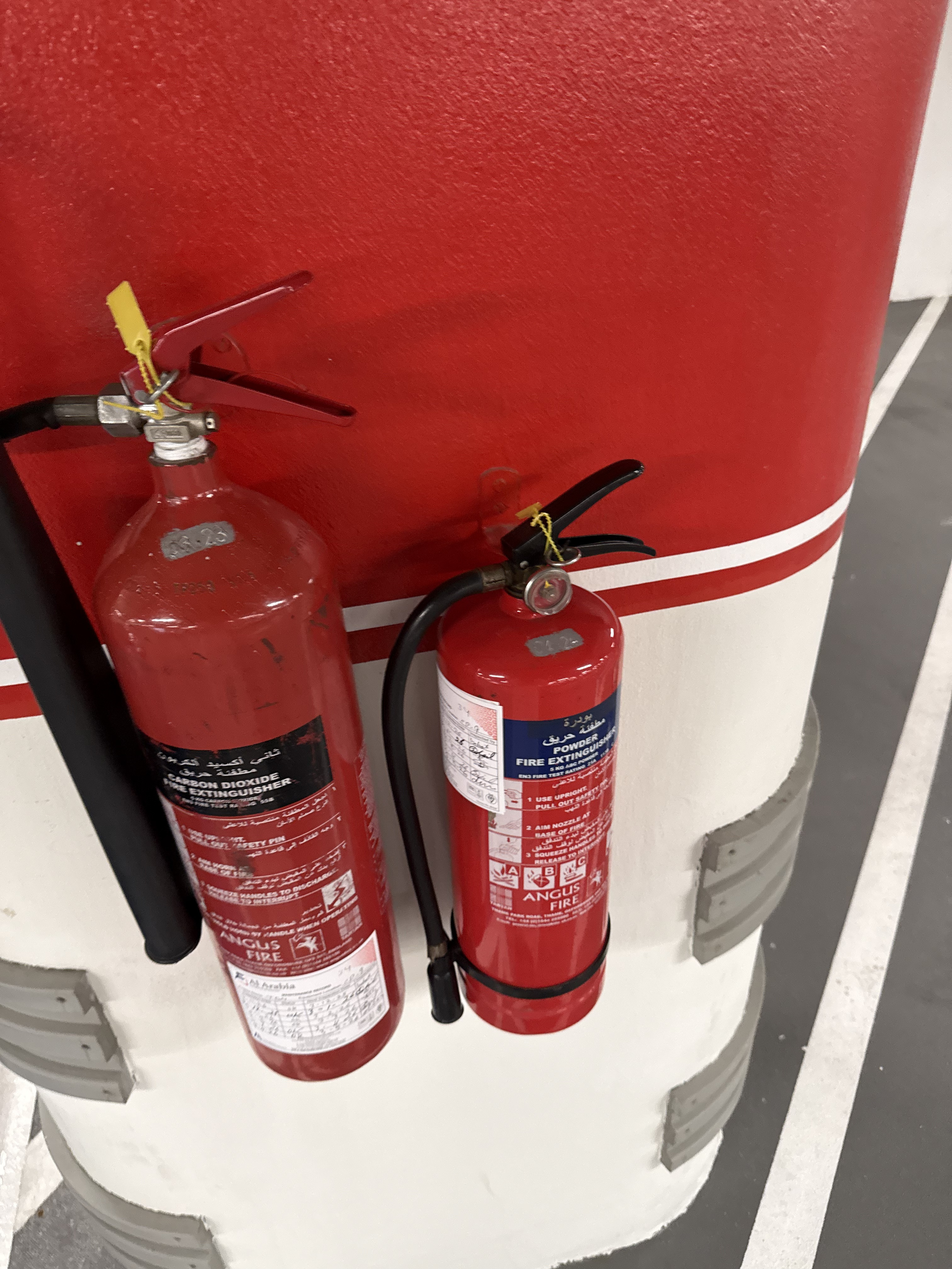fire_extinguisher: (1, 268, 407, 1083), (380, 457, 657, 1037)
